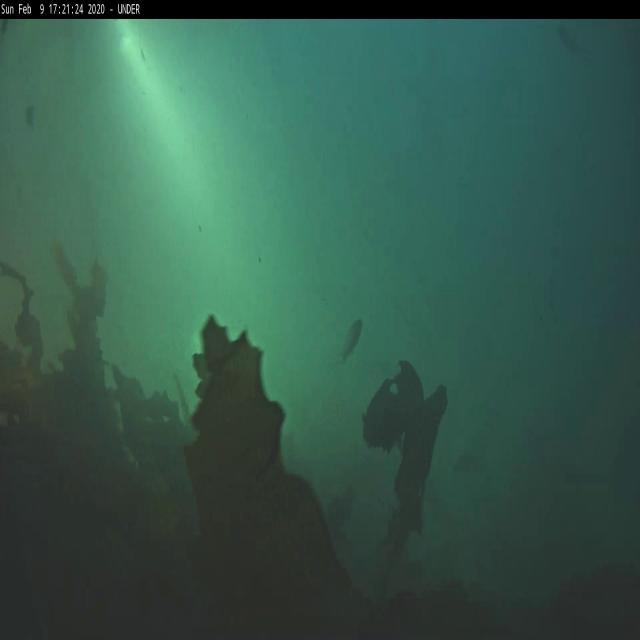fish: (344, 318, 362, 363)
